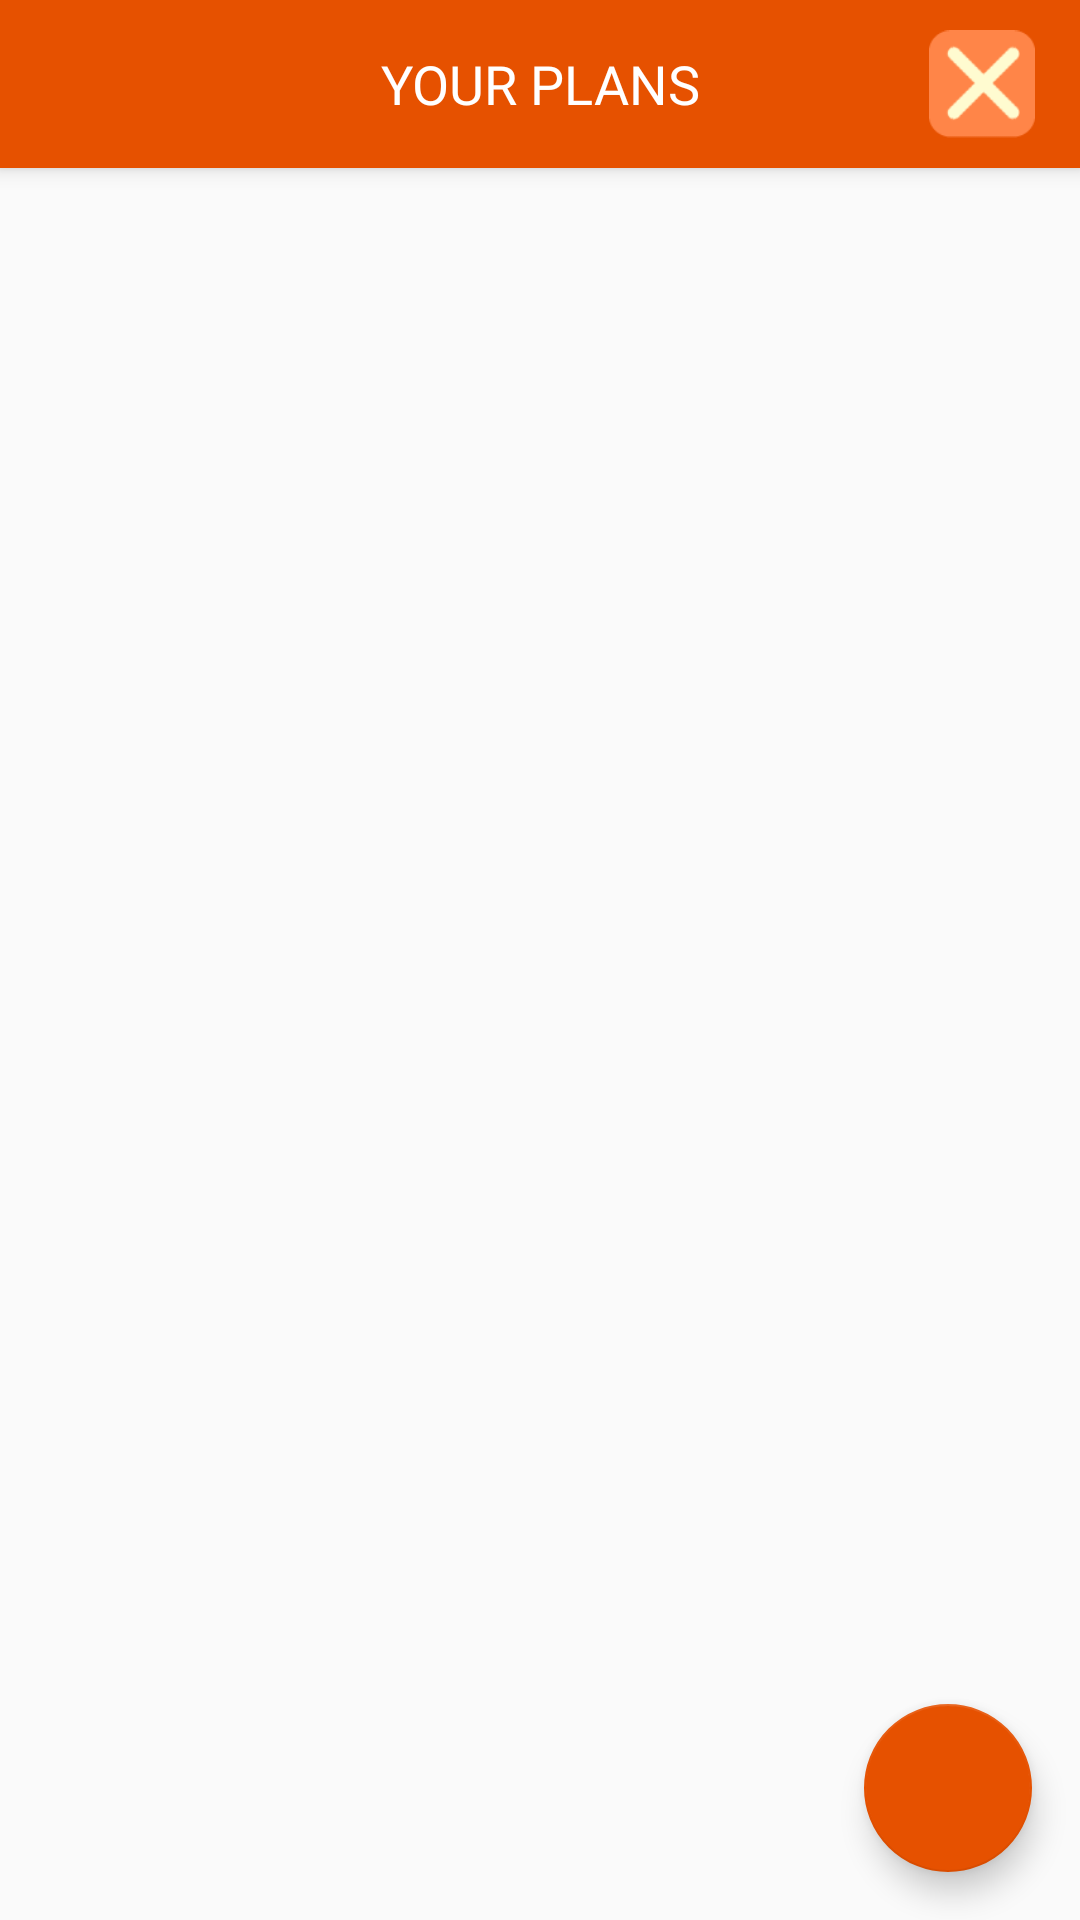

Locate icon controls on the screen. Image size 1080px x 1920px, boxes as {"left": x1, "top": y1, "right": x2, "bottom": y2}.
close: {"left": 929, "top": 30, "right": 1035, "bottom": 137}
